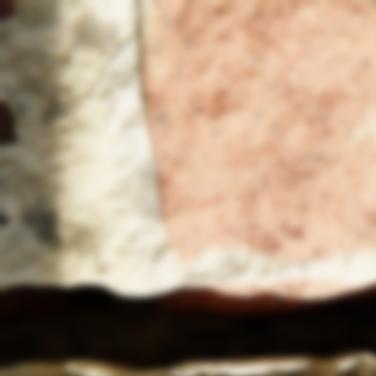brick: (141, 0, 375, 264), (0, 100, 18, 145), (0, 0, 17, 26), (0, 202, 11, 230), (0, 175, 1, 189)
crack: (0, 278, 375, 374)
